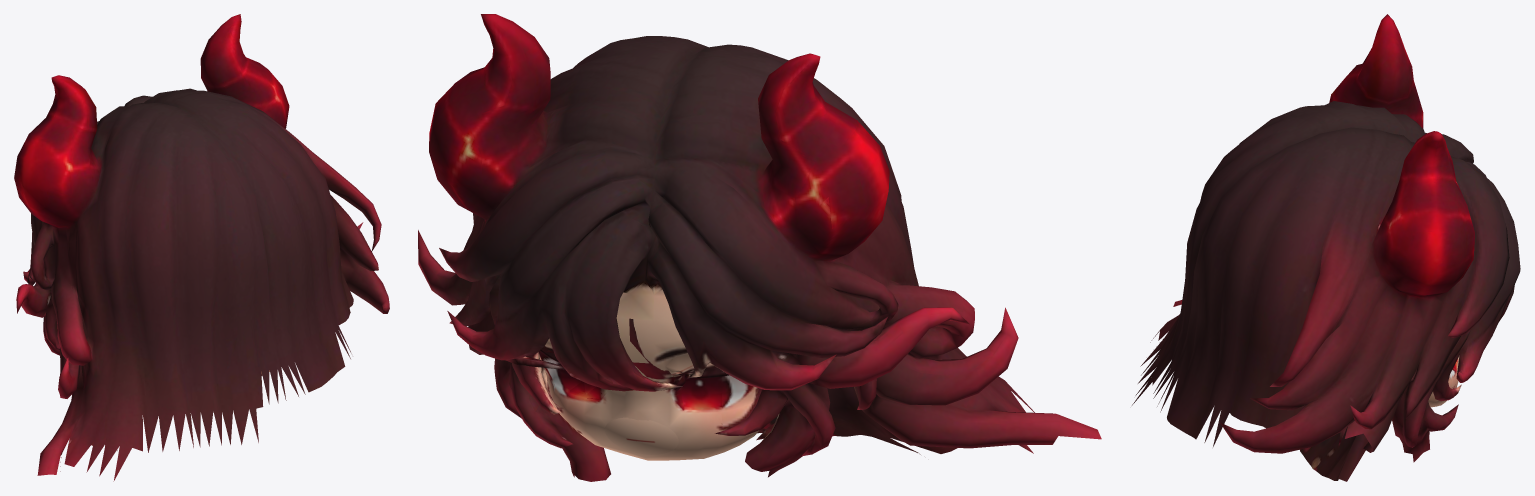
The model's file is Costume_HornsMageM_HeadExpressions_R15.glb.
3 views of the same model, side by side, from view 1: azimuth 30°, elevation 25°; view 2: azimuth 150°, elevation 25°; view 3: azimuth 270°, elevation 25° (orthographic). The views are drawn at different scales.
Parts seen in each view (by area): view 1: HeadBase; view 2: HeadBase, FaceExpression; view 3: HeadBase.
Boxes of the visible parts, x1,y1,x2,y2 form: HeadBase: [14, 14, 389, 481]; HeadBase: [418, 14, 1101, 481]; FaceExpression: [502, 289, 777, 460]; HeadBase: [1132, 14, 1520, 481].
Bounding box in the file's own units: 3.13 × 2.43 × 2.36.
2 materials, 2 textured.
